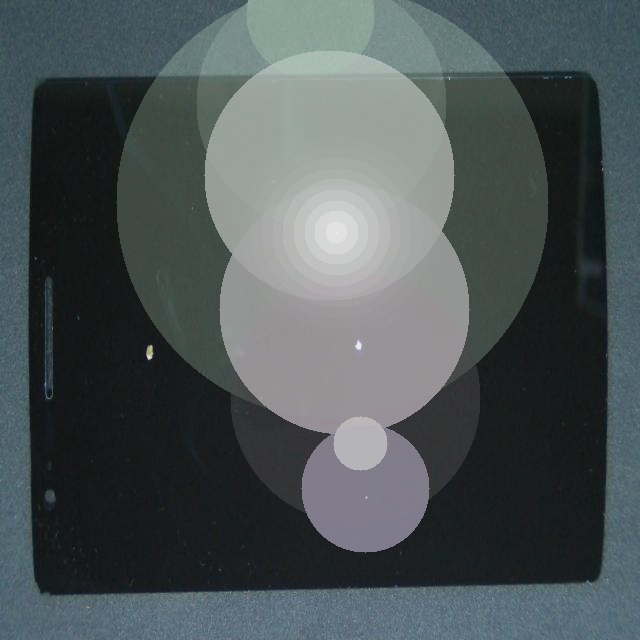stain: (190, 123, 532, 490), (37, 156, 211, 547)
